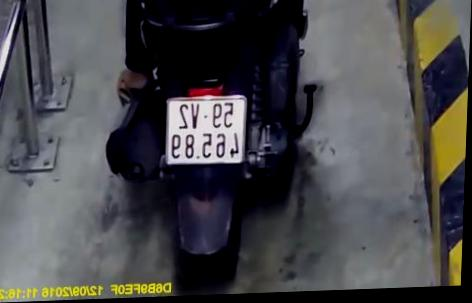License_Plate: (153, 88, 258, 175)
